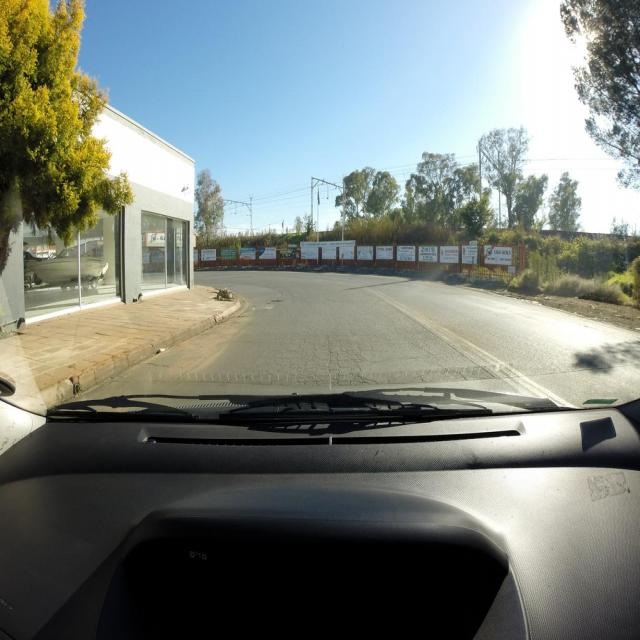Pothole: (266, 300, 283, 305)
